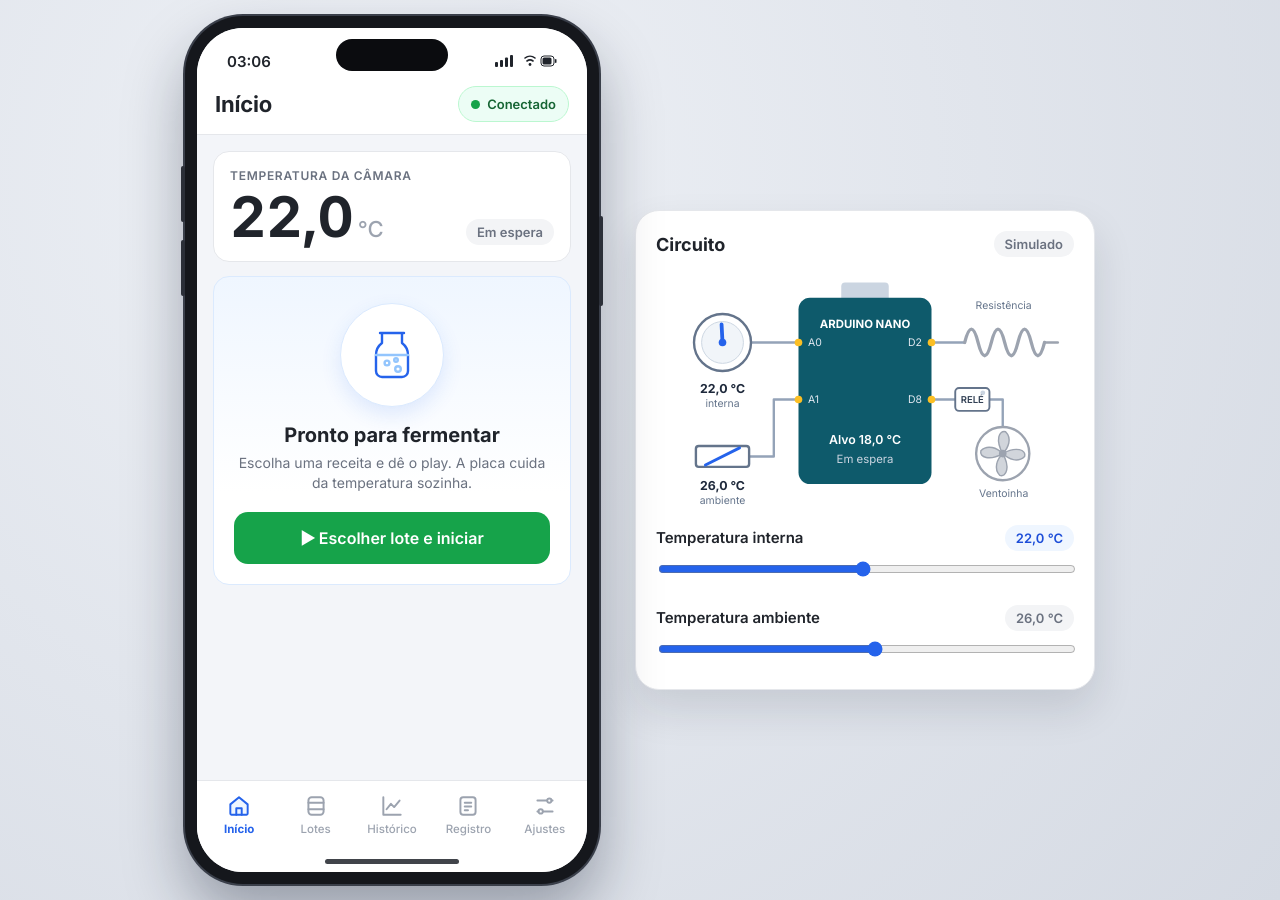
Test case: App › Simular (Modo dev no celular) › Simular inicia a fermentação e a câmara e o ambiente se mexem sozinhos, sem tocar em nada
Click the button "Lotes": (316, 814) [277,787,354,842]
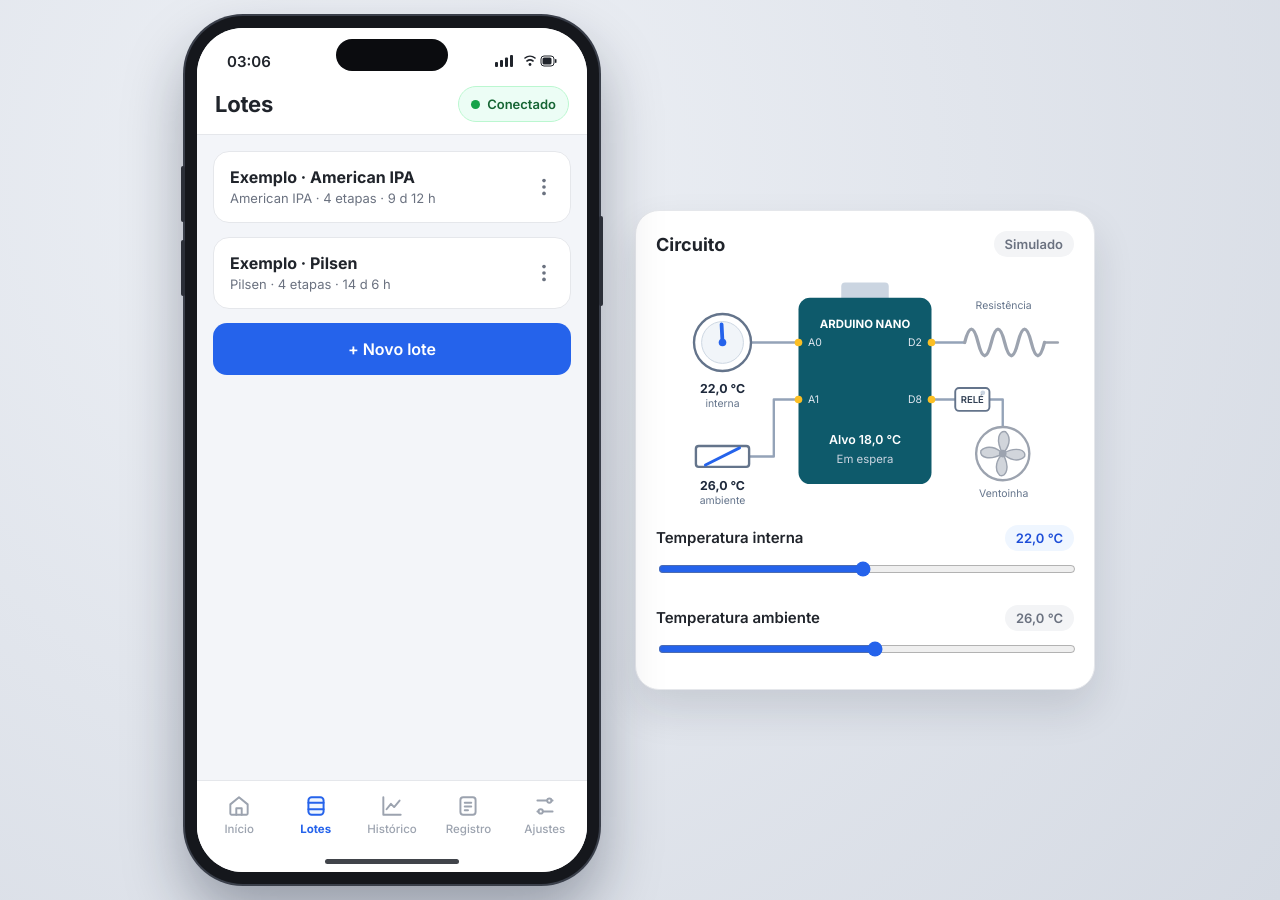
Click the button named "Opções de Exemplo · American IPA": (544, 187) [518,152,570,222]
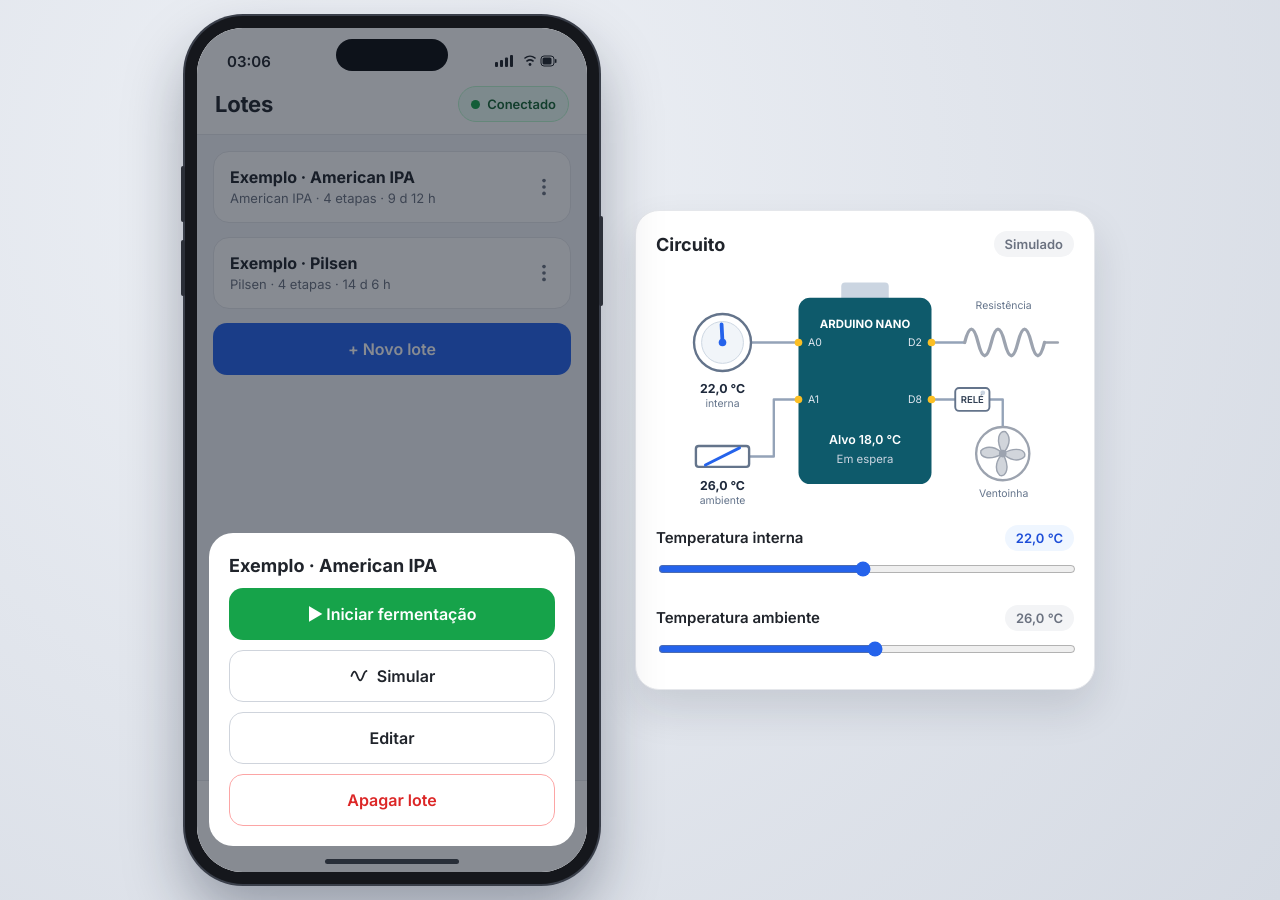
Click the button "Simular": (392, 676) [229,650,555,702]
Wait 40500 ms
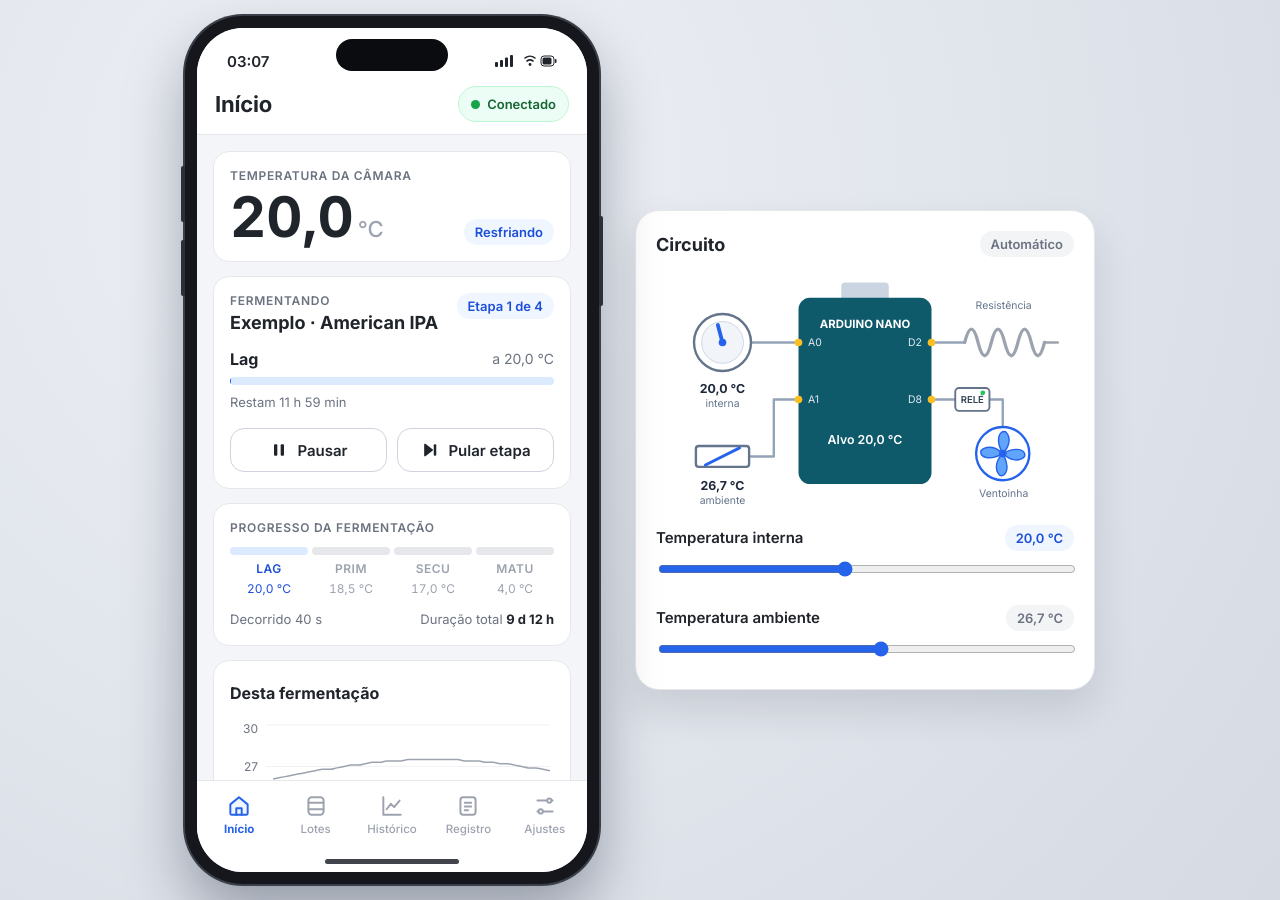
Check: the text "Fermentando" is shown, box [230,293,330,308]
